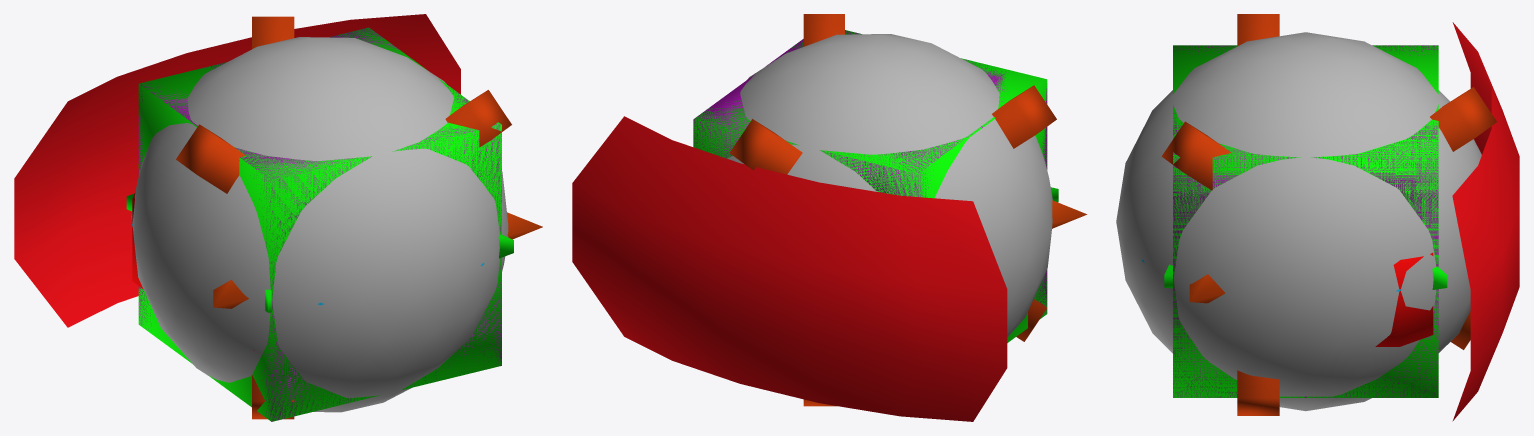
Rendered from monster.obj.
3 views of the same model, side by side, from view 1: azimuth 30°, elevation 25°; view 2: azimuth 150°, elevation 25°; view 3: azimuth 270°, elevation 25° (orthographic). The views are drawn at different scales.
Visible parts, largest first — view 1: wormhole, shield, largeDiamond, largeCube, largeTriangle, smallTriangle, pinWheel; view 2: shield, wormhole, largeDiamond, largeTriangle, largeCube, smallTriangle; view 3: wormhole, largeDiamond, shield, largeCube, largeTriangle, shielder, smallTriangle, pinWheel.
Part boxes in pixels (x1,y1,x2,y2): wormhole: (131,37,508,412); shield: (14,14,460,327); largeDiamond: (138,27,501,421); largeCube: (138,28,501,421); largeTriangle: (176,16,511,419); smallTriangle: (213,212,542,308); pinWheel: (126,193,513,312); shield: (572,116,1007,421); wormhole: (727,34,1052,337); largeDiamond: (693,30,1047,342); largeTriangle: (730,14,1056,406); largeCube: (693,30,1047,315); smallTriangle: (1052,200,1087,228); wormhole: (1116,32,1481,411); largeDiamond: (1173,45,1438,397); shield: (1452,22,1519,421); largeCube: (1173,45,1438,397); largeTriangle: (1161,14,1496,415); shielder: (1375,252,1433,346); smallTriangle: (1189,274,1225,303); pinWheel: (1164,264,1447,289).
Bounding box in the file's own units: 2.71 × 2 × 2.13.
